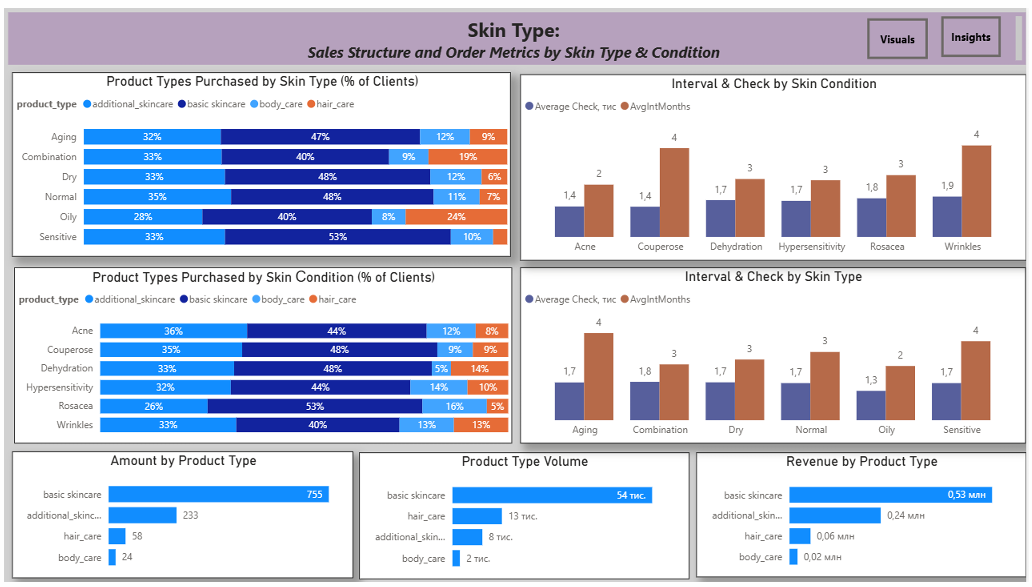

The dashboard page shown, as its layout file describes it:
{"tool":"powerbi","page":{"name":"Skin Type","canvas":[1280,720],"ordinal":2},"visuals":[{"type":"textbox","title":"Заголовок","box":[7.4,6.2,1272.3,65.8],"z":0},{"type":"hundredPercentStackedBarChart","title":"Product Types Purchased by Skin Type (% of Clients)","fields":{"Category":["clients.skin_type"],"Series":["price.product_type"],"Y":["_DAX_measures_.Total Clients"]},"box":[12.8,81.7,623.3,230.2],"z":0,"group":"g1"},{"type":"hundredPercentStackedBarChart","title":"Product Types Purchased by Skin Сondition (% of Clients)","fields":{"Category":["clients.skin_condition"],"Series":["price.product_type"],"Y":["_DAX_measures_.Total Clients"]},"box":[15.1,325.9,622.1,220.3],"z":1000,"group":"g1"},{"type":"clusteredBarChart","title":"Amount by Product Type","fields":{"Category":["price.product_type"],"Y":["_DAX_measures_.Total Amount"]},"box":[13,555.3,426.7,158.1],"z":2000,"group":"g1"},{"type":"group","id":"g1","title":"Графіки","box":[12.8,81.7,1267.6,633],"z":3000},{"type":"clusteredBarChart","title":"Product Type Volume","fields":{"Category":["price.product_type"],"Y":["_DAX_measures_.Total ML"]},"box":[446.9,556.7,412.9,158],"z":3000,"group":"g1"},{"type":"actionButton","box":[1081.2,13.7,75.7,50.9],"z":4000},{"type":"actionButton","box":[1174.3,11.2,74.5,50.9],"z":5000},{"type":"clusteredBarChart","title":" Revenue by Product Type","fields":{"Category":["price.product_type"],"Y":["_DAX_measures_.Total Revenue"]},"box":[867.5,556.7,412.9,155.8],"z":5000,"group":"g1"},{"type":"clusteredColumnChart","title":"Interval & Check by Skin Type","fields":{"Category":["clients.skin_type"],"Y":["_DAX_measures_.Average Check, тис","_DAX_measures_.AvgIntMonths"]},"box":[648,325.2,632.1,220.3],"z":6000,"group":"g1"},{"type":"clusteredColumnChart","title":"Interval & Check by Skin  Condition","fields":{"Category":["clients.skin_condition"],"Y":["_DAX_measures_.Average Check, тис","_DAX_measures_.AvgIntMonths"]},"box":[647.2,83.8,633.2,232.6],"z":7000,"group":"g1"}]}

Visuals, with their boxes in screenshot pixels (x1, y1, x2, y2), scaled from the page's 1280x720 canvas onto the 1032x587 screenshot:
"Заголовок" textbox: bbox(6, 5, 1031, 59)
"Product Types Purchased by Skin Type (% of Clients)" hundredPercentStackedBarChart: bbox(10, 67, 513, 254)
"Product Types Purchased by Skin Сondition (% of Clients)" hundredPercentStackedBarChart: bbox(12, 266, 514, 445)
"Amount by Product Type" clusteredBarChart: bbox(10, 453, 355, 582)
"Графіки" group: bbox(10, 67, 1031, 583)
"Product Type Volume" clusteredBarChart: bbox(360, 454, 693, 583)
actionButton: bbox(872, 11, 933, 53)
actionButton: bbox(947, 9, 1007, 51)
" Revenue by Product Type" clusteredBarChart: bbox(699, 454, 1031, 581)
"Interval & Check by Skin Type" clusteredColumnChart: bbox(522, 265, 1031, 445)
"Interval & Check by Skin  Condition" clusteredColumnChart: bbox(522, 68, 1031, 258)
